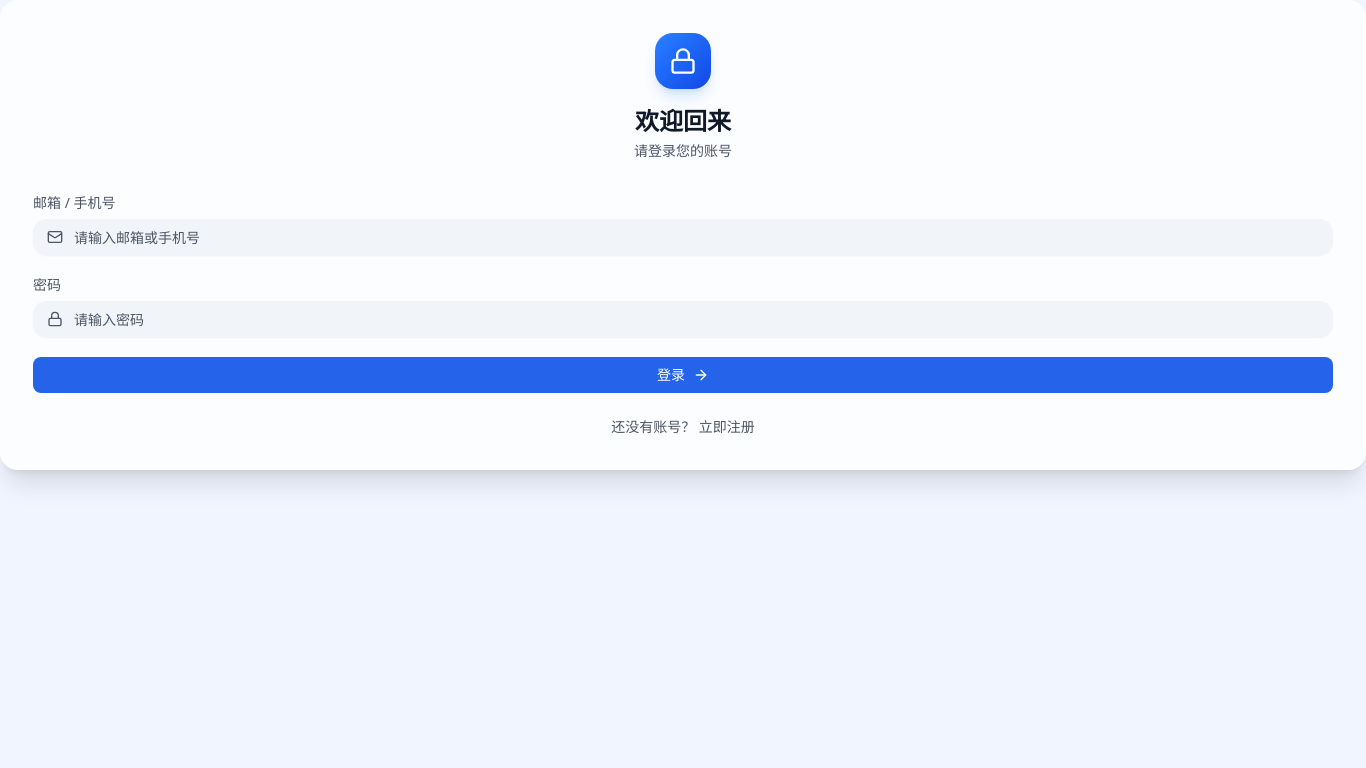
Scenario: LoginForm › clears field error after user types
Submit empty to trigger errors
Click the button "登录" at (683,375), box [33,357,1333,393]
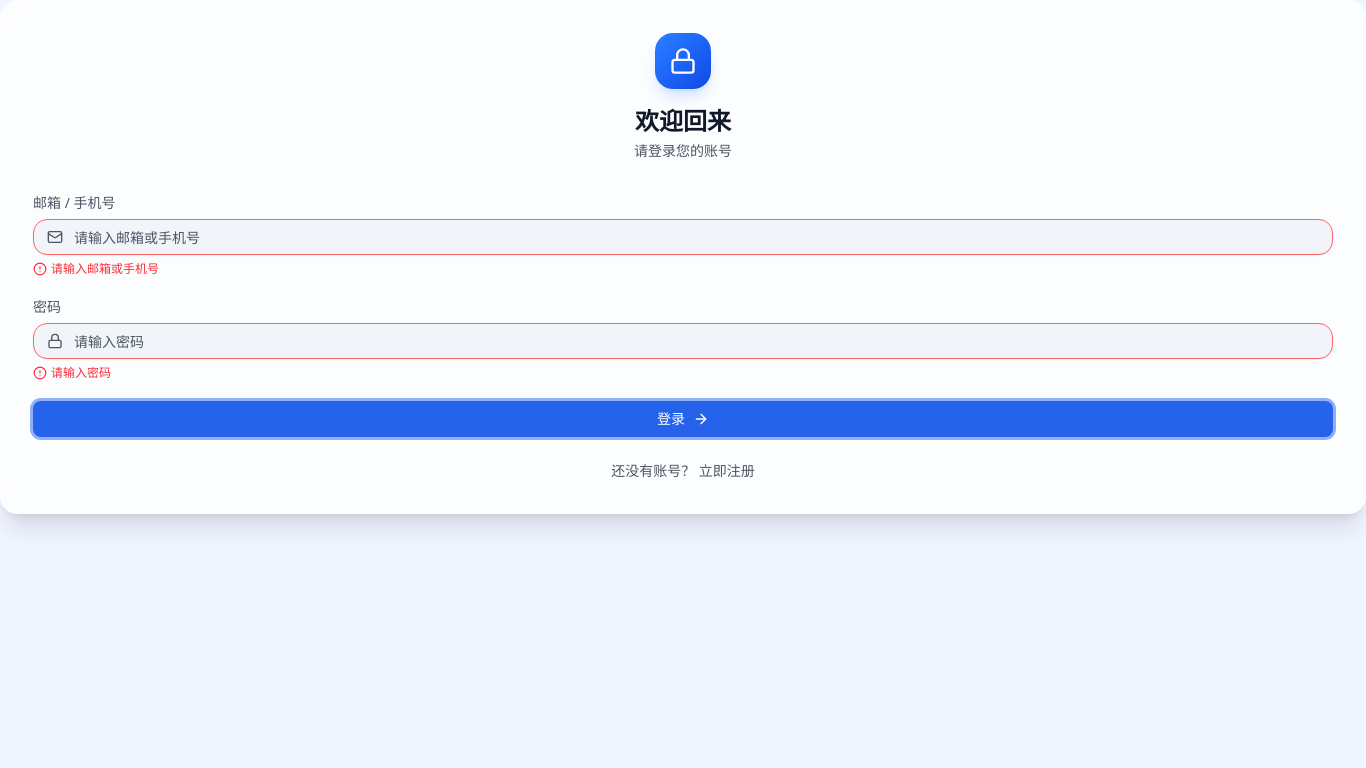
Expected: the text "请输入邮箱或手机号" is shown, [33,260,159,277]
Type to clear the error
Type "test@example.com" into the field labelled "邮箱 / 手机号" at (683,237), box [33,219,1333,255]
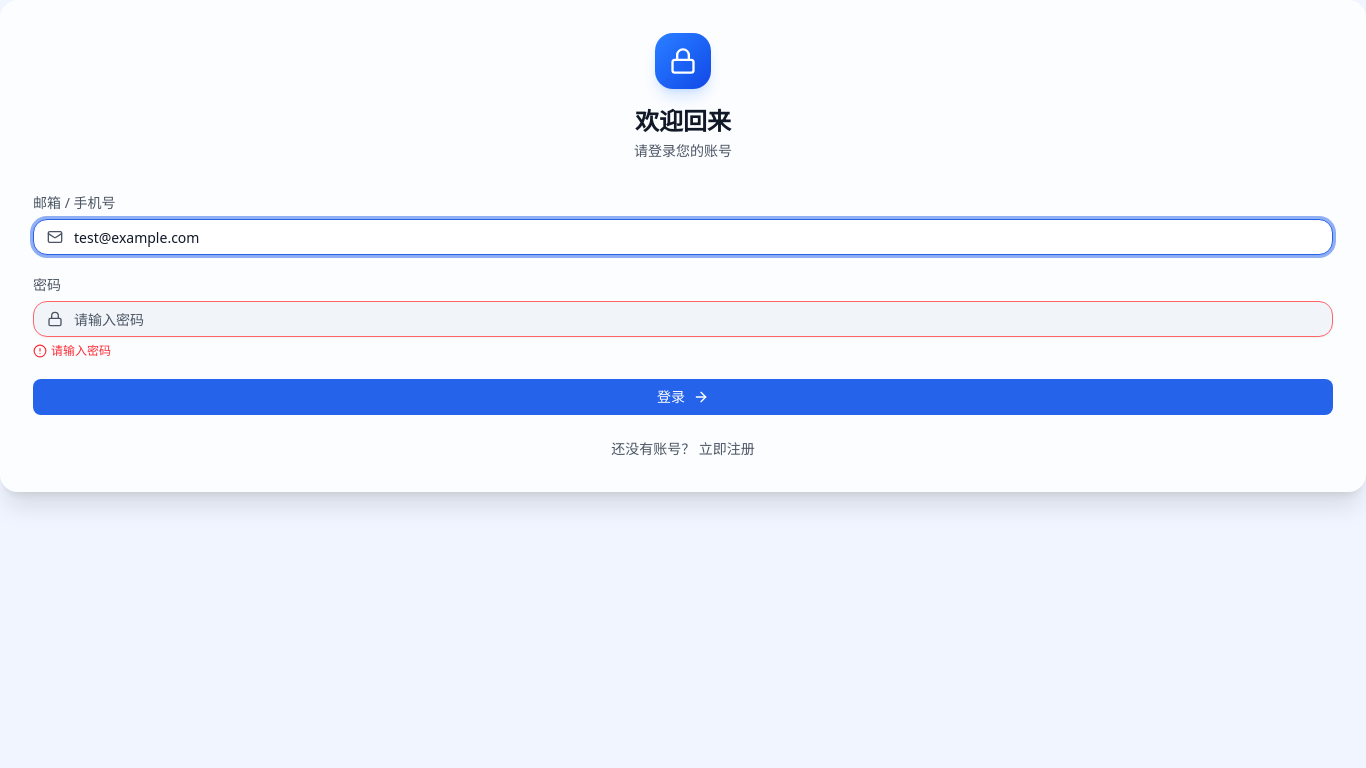
Expected: the text "请输入邮箱或手机号" is gone
